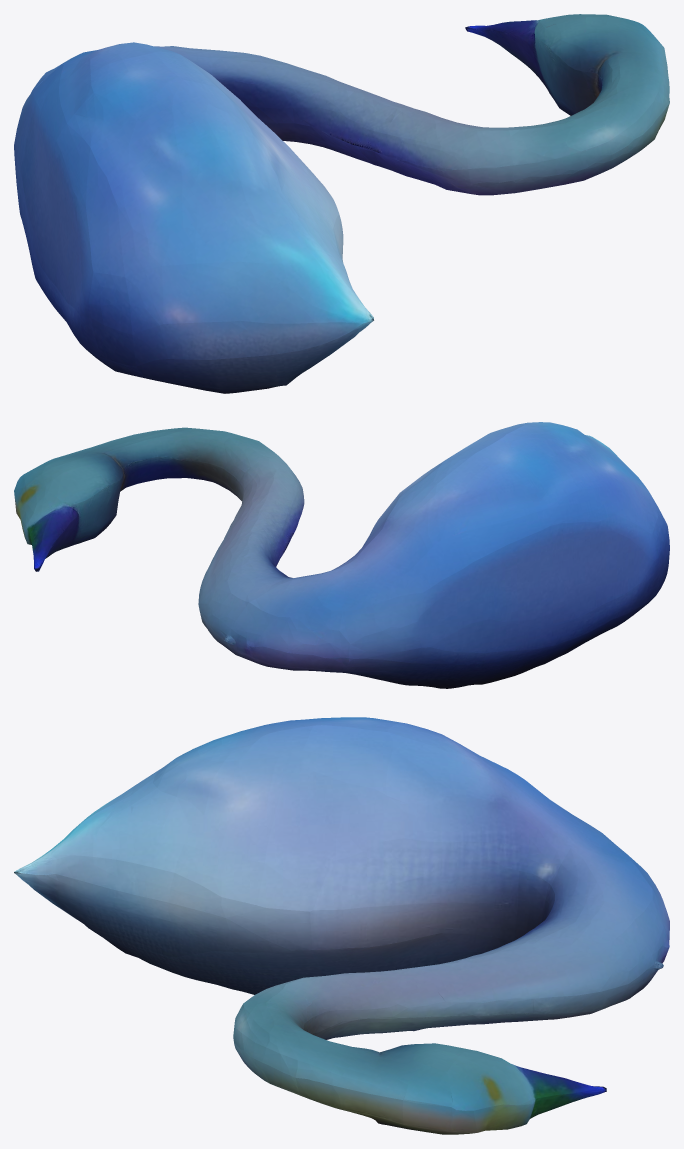
Rendered from obj02_baseline.glb.
3 renders of one model, top to bottom at view 1: azimuth 30°, elevation 25°; view 2: azimuth 150°, elevation 25°; view 3: azimuth 270°, elevation 25°, orthographic. The views are drawn at different scales.
Parts seen in each view (by area): view 1: n1; view 2: n1; view 3: n1.
Boxes of the visible parts, <box> form: n1: <box>14,14,669,393</box>; n1: <box>14,422,669,688</box>; n1: <box>14,717,669,1134</box>.
Size of the model in its own units: 0.9041 by 0.3632 by 0.7841.
1 material, 1 textured.
